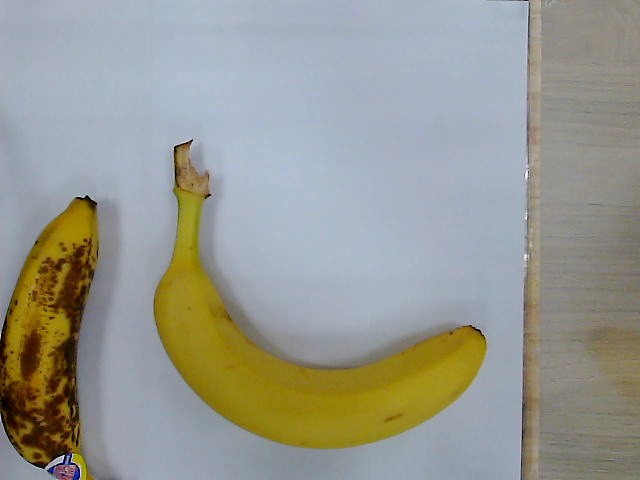fresh_banana: (154, 136, 487, 450)
rotten_banana: (1, 198, 96, 480)
